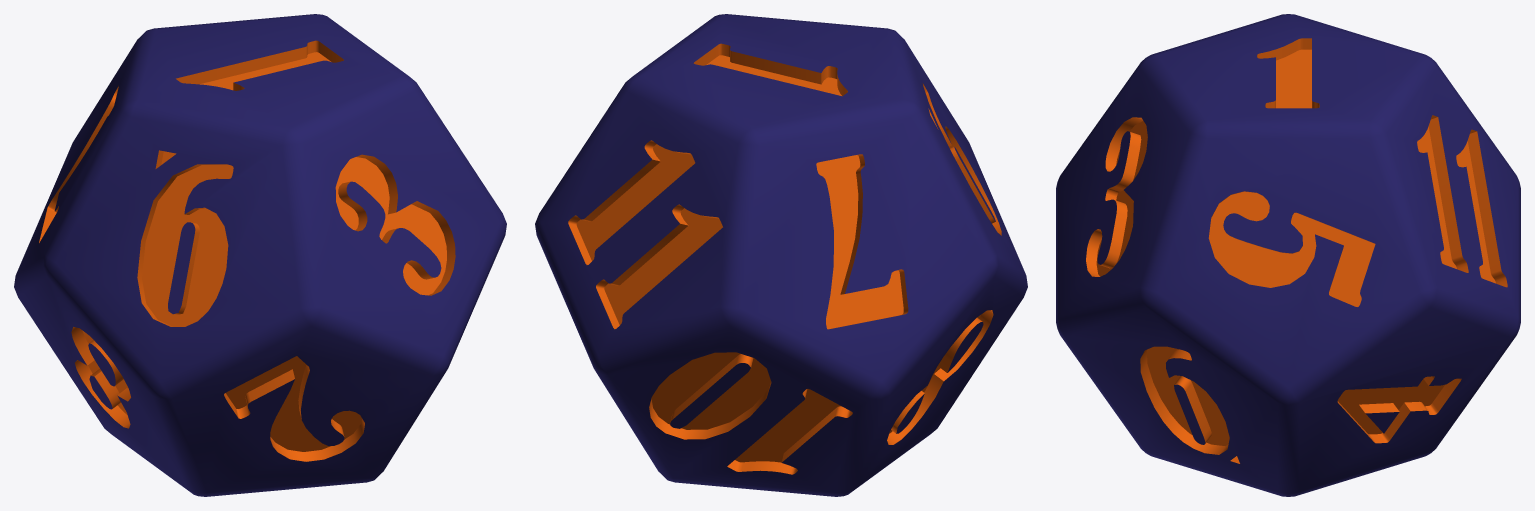
Rendered from dice12a.glb.
The picture shows the model from 3 angles, left to right: view 1: azimuth 30°, elevation 25°; view 2: azimuth 150°, elevation 25°; view 3: azimuth 270°, elevation 25°; orthographic projection. The views are drawn at different scales.
Parts seen in each view (by area): view 1: A, B; view 2: A, B; view 3: A, B.
Boxes of the visible parts, x1,y1,x2,y2 form: A: (14,14,506,496); B: (39,40,455,461); A: (535,14,1027,496); B: (568,43,1001,474); A: (1056,14,1520,496); B: (1086,38,1507,463).
Bounding box in the file's own units: 7.63 × 6.31 × 7.3.
